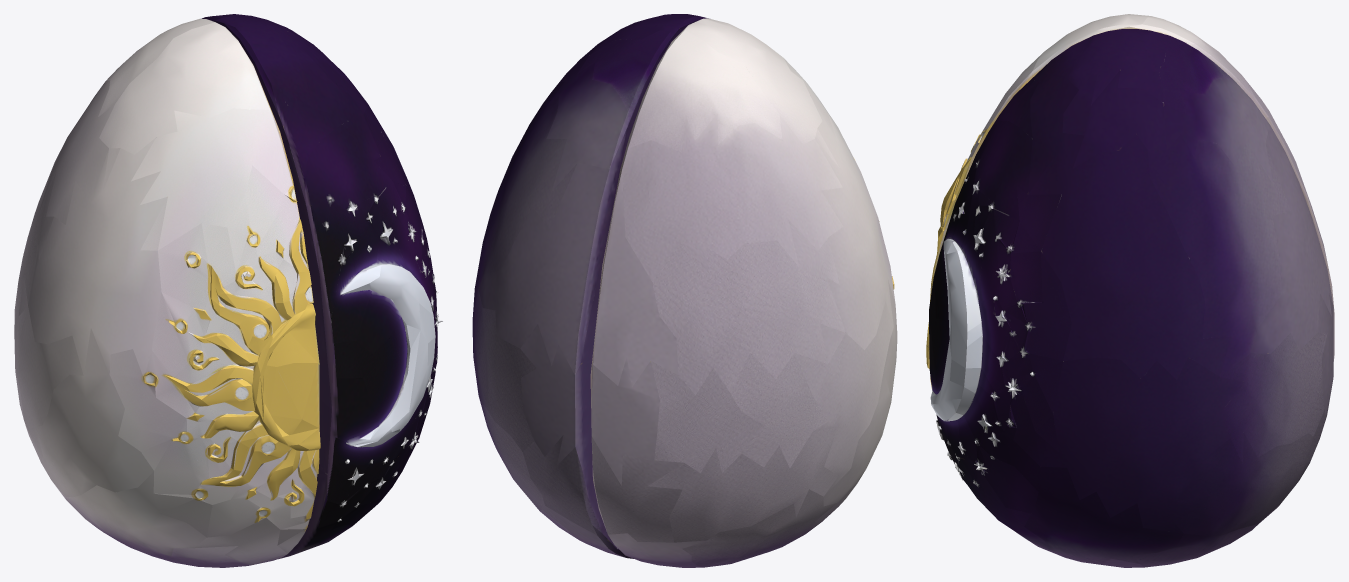
3 renders of one model, left to right at view 1: azimuth 30°, elevation 25°; view 2: azimuth 150°, elevation 25°; view 3: azimuth 270°, elevation 25°, orthographic.
Bounding box in the file's own units: 1.43 × 1.9 × 1.36.
Materials: 1 (1 with a texture image).
